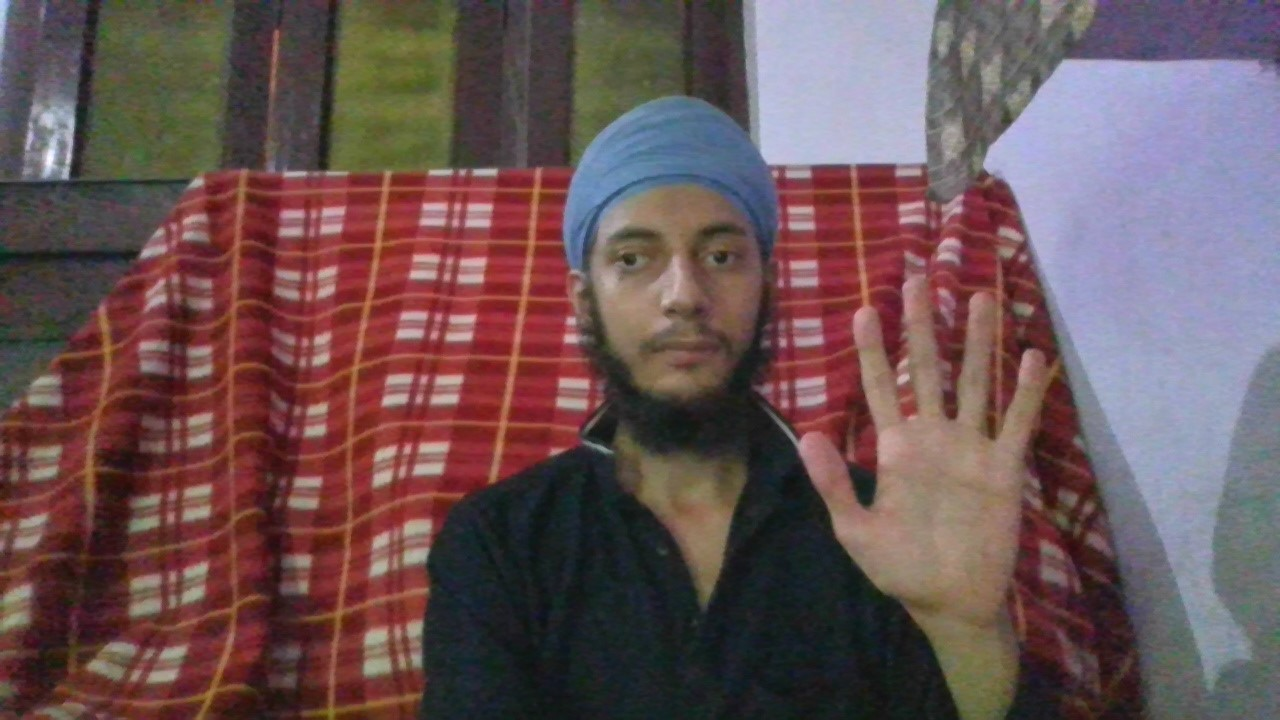Hello: (798, 283, 1046, 611)
